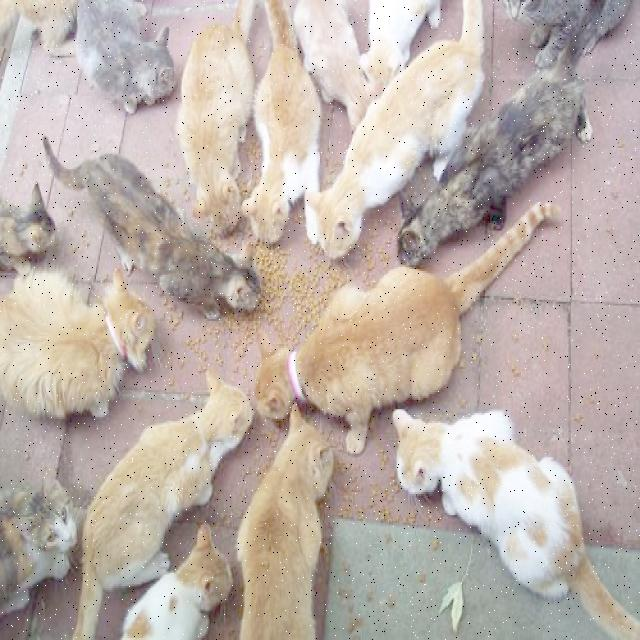cat: (291, 203, 560, 453), (394, 409, 640, 637), (74, 370, 252, 639), (308, 0, 484, 258), (398, 60, 591, 266), (42, 137, 260, 318), (0, 268, 154, 418), (238, 404, 334, 639), (241, 0, 321, 243), (176, 0, 254, 236), (122, 524, 232, 639), (76, 0, 176, 114), (0, 480, 76, 615), (294, 0, 371, 129), (504, 1, 630, 67), (360, 0, 440, 89), (0, 182, 56, 269), (0, 0, 77, 51), (256, 338, 295, 419), (306, 205, 318, 243)
